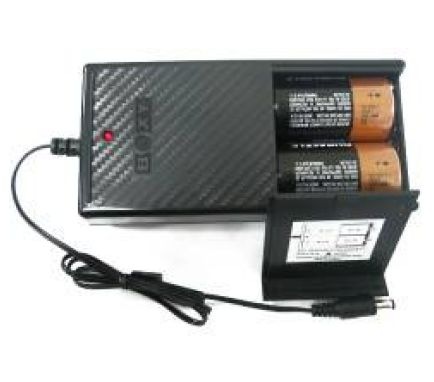Battery: (274, 73, 397, 141), (275, 142, 403, 193)
